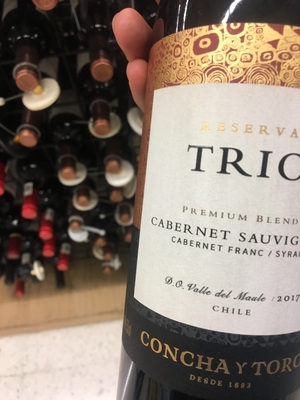trio cabernet sauvignon: (122, 10, 300, 383)
